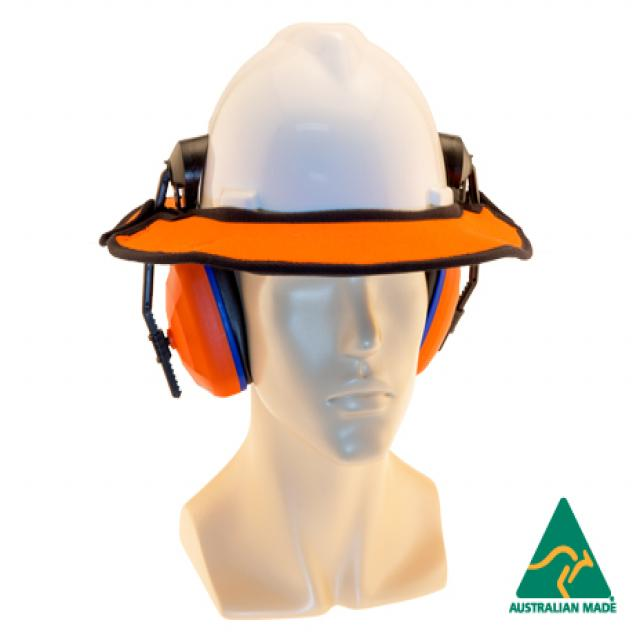Safety-Helmet: (114, 20, 534, 266)
